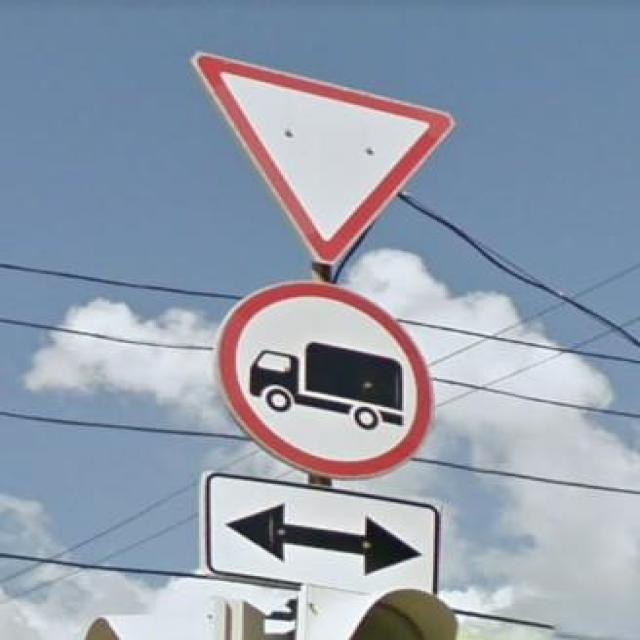Ustap pierwszenstwa: (191, 53, 457, 269)
